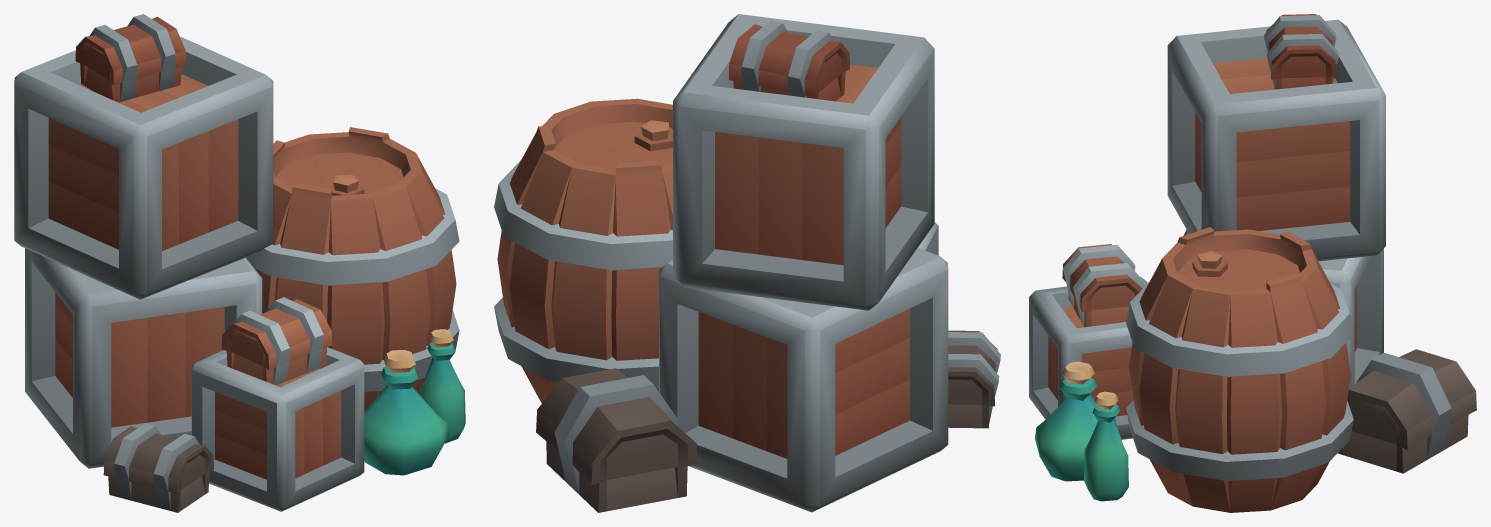
Rendered from box_stacked_gltf.glb.
3 views of the same model, side by side, from view 1: azimuth 30°, elevation 25°; view 2: azimuth 150°, elevation 25°; view 3: azimuth 270°, elevation 25° (orthographic). The views are drawn at different scales.
Visible parts, largest first — view 1: box_stacked; view 2: box_stacked; view 3: box_stacked.
Part boxes in pixels (x1,y1,x2,y2): box_stacked: [14, 14, 465, 512]; box_stacked: [494, 14, 1000, 512]; box_stacked: [1029, 14, 1476, 512].
Size of the model in its own units: 3.48 by 3.31 by 3.63.
Materials: 1 (1 with a texture image).
